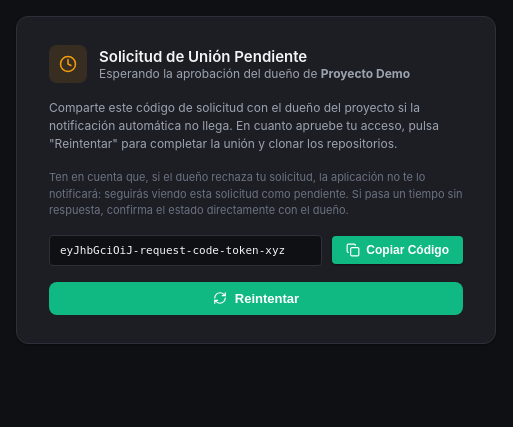
Test: JoinRequestPending › muestra el mensaje terminal de "no_remote_repos" sin sugerir reintentar indefinidamente
The image size is (513, 427).
Click the button "Reintentar": (256, 298) [49,282,463,314]
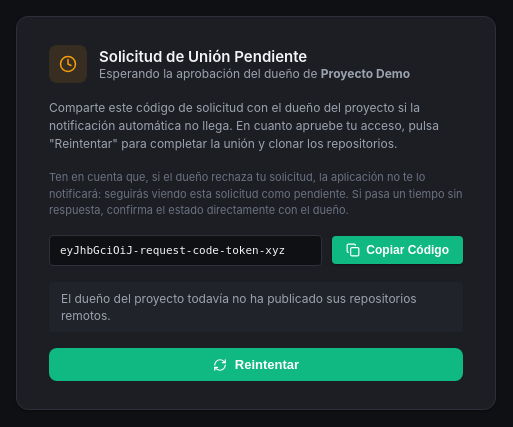
Expected: the text with test id "join-request-status-message" reads "El dueño del proyecto todavía no ha publicado sus repositorios remotos.", [61,290,417,323]
